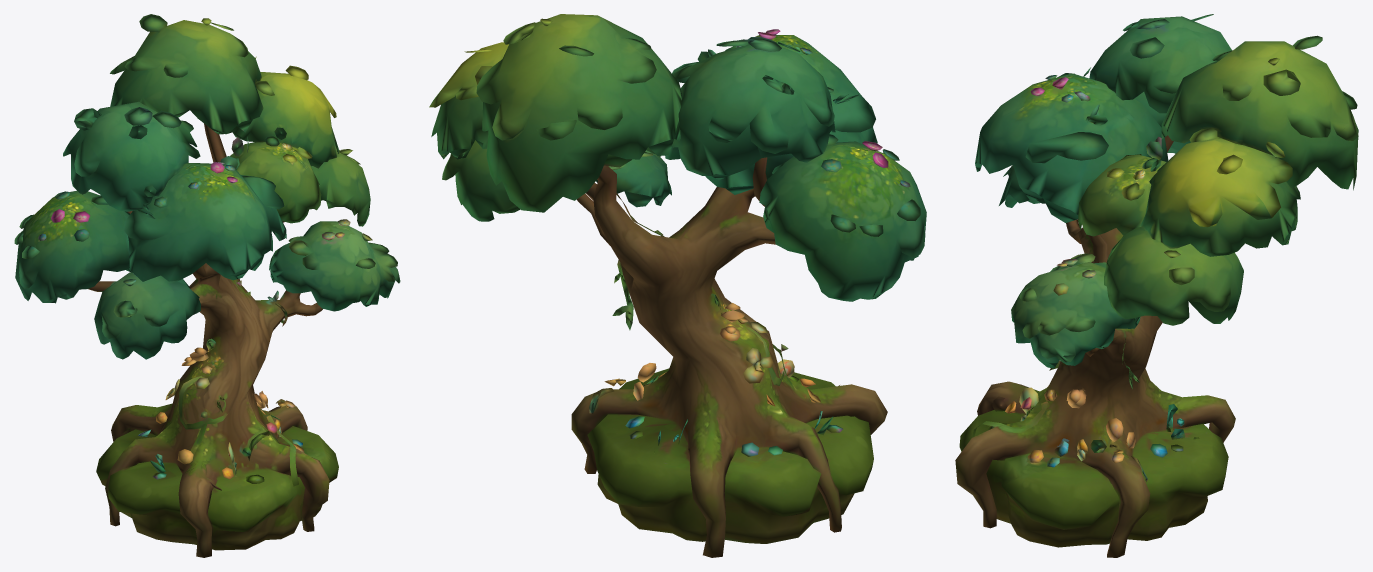
Rendered from 01_tree_sanctuary_oak.glb.
3 renders of one model, left to right at view 1: azimuth 30°, elevation 25°; view 2: azimuth 150°, elevation 25°; view 3: azimuth 270°, elevation 25°, orthographic. The views are drawn at different scales.
Visible parts, largest first — view 1: tripo_node_5c040c4d-cc35-4c34-b398-d55d827e60b4; view 2: tripo_node_5c040c4d-cc35-4c34-b398-d55d827e60b4; view 3: tripo_node_5c040c4d-cc35-4c34-b398-d55d827e60b4.
Boxes of the visible parts, <box> form: tripo_node_5c040c4d-cc35-4c34-b398-d55d827e60b4: <box>14,14,400,557</box>; tripo_node_5c040c4d-cc35-4c34-b398-d55d827e60b4: <box>429,14,926,557</box>; tripo_node_5c040c4d-cc35-4c34-b398-d55d827e60b4: <box>955,14,1358,557</box>.
Bounding box in the file's own units: 0.8982 × 1 × 0.7652.
1 material, 1 textured.
